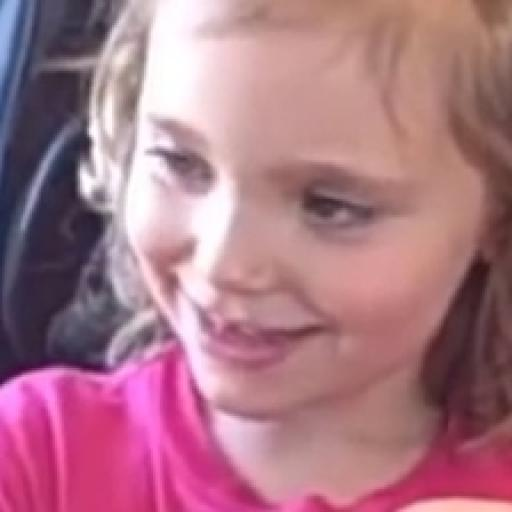Autism: (73, 13, 506, 392)
